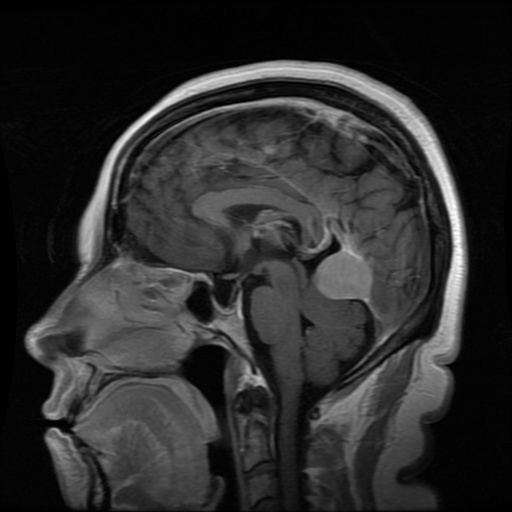meningioma: (314, 249, 371, 298)
